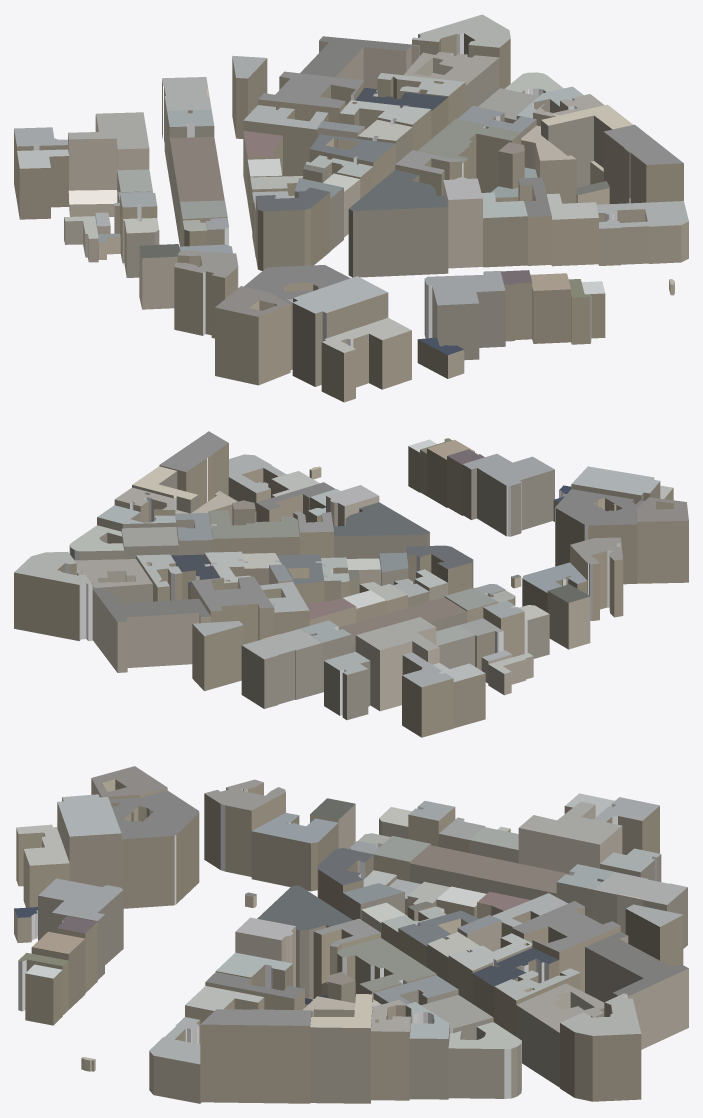
3 renders of one model, top to bottom at view 1: azimuth 30°, elevation 25°; view 2: azimuth 150°, elevation 25°; view 3: azimuth 270°, elevation 25°, orthographic. The views are drawn at different scales.
Parts seen in each view (by area): view 1: tuile; view 2: tuile; view 3: tuile.
Boxes of the visible parts, bbox=[...] form: tuile: bbox=[14, 14, 688, 402]; tuile: bbox=[14, 431, 688, 737]; tuile: bbox=[14, 766, 688, 1103].
Bounding box in the file's own units: 249 × 36.84 × 269.
